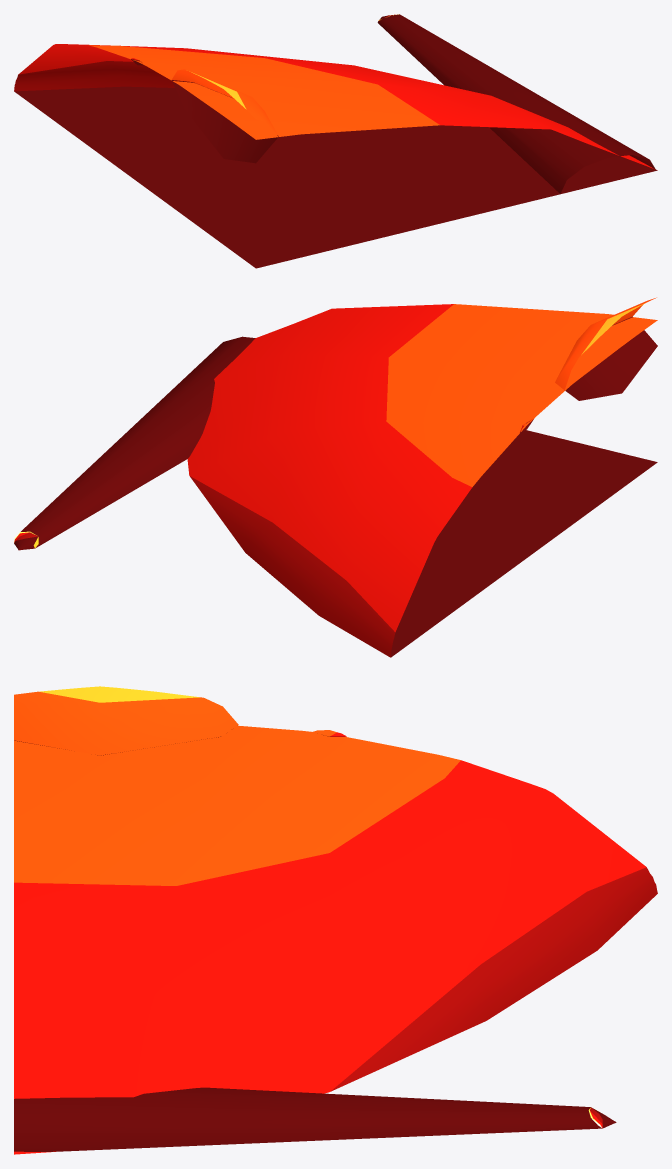
Rendered from shot_dflame_12.glb.
The picture shows the model from 3 angles, top to bottom: view 1: azimuth 30°, elevation 25°; view 2: azimuth 150°, elevation 25°; view 3: azimuth 270°, elevation 25°; orthographic projection. The views are drawn at different scales.
Parts seen in each view (by area): view 1: dflame_wall_bed_b12, dflame_wall_tongue0_b12, dflame_wall_billow6_b12; view 2: dflame_wall_bed_b12, dflame_wall_tongue0_b12, dflame_wall_billow6_b12; view 3: dflame_wall_bed_b12, dflame_wall_tongue0_b12, dflame_wall_billow6_b12.
Part boxes in pixels (left/top/right/bottom): dflame_wall_bed_b12: left=14, top=44, right=657, bottom=268; dflame_wall_tongue0_b12: left=377, top=14, right=656, bottom=193; dflame_wall_billow6_b12: left=171, top=69, right=278, bottom=163; dflame_wall_bed_b12: left=187, top=304, right=657, bottom=657; dflame_wall_tongue0_b12: left=14, top=336, right=255, bottom=550; dflame_wall_billow6_b12: left=555, top=297, right=657, bottom=400; dflame_wall_bed_b12: left=14, top=725, right=657, bottom=1154; dflame_wall_tongue0_b12: left=14, top=1087, right=616, bottom=1151; dflame_wall_billow6_b12: left=14, top=686, right=238, bottom=755.
Size of the model in its own units: 10.76 by 3.98 by 11.22.
